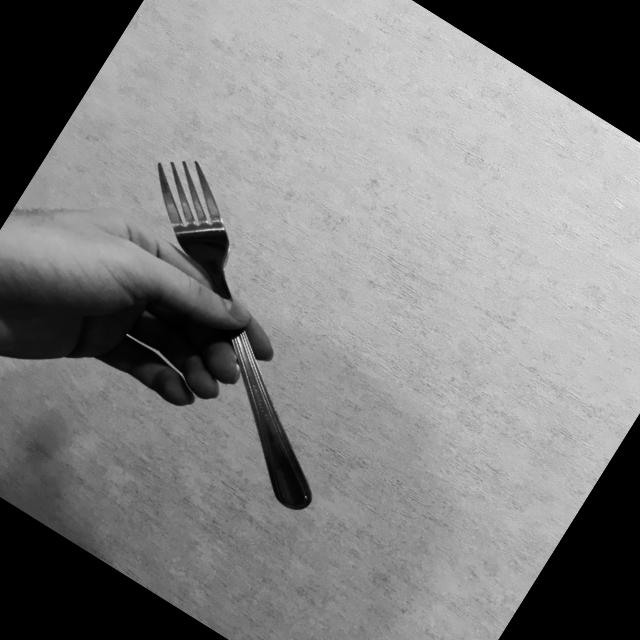fork: (37, 142, 430, 516)
